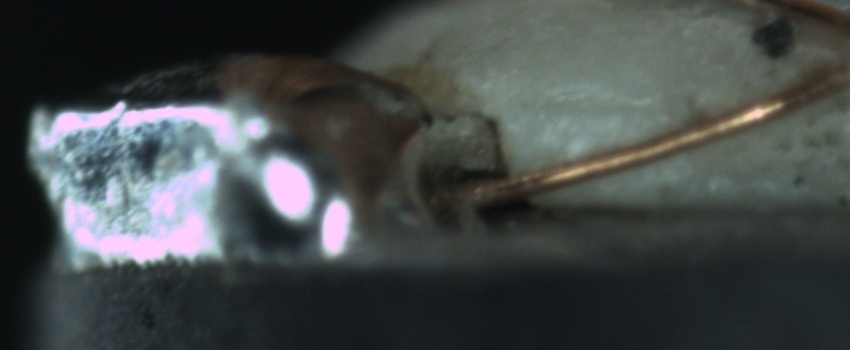DL: (540, 79, 678, 142)
